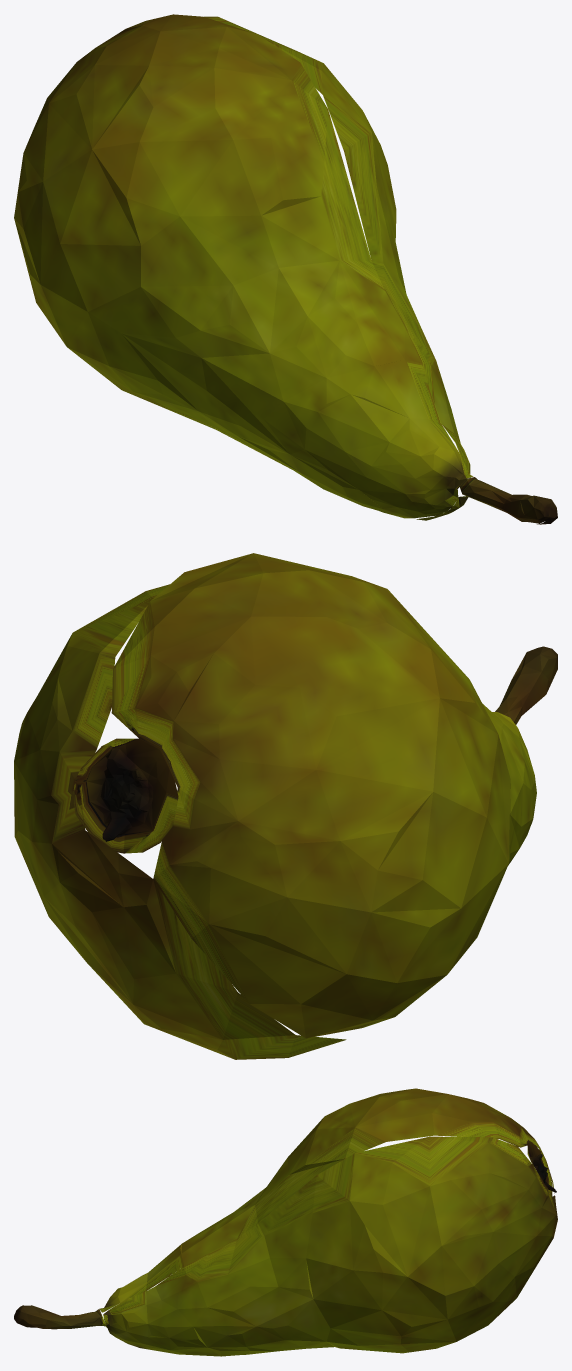
File: food_produce_pear_b01.glb
3 renders of one model, top to bottom at view 1: azimuth 30°, elevation 25°; view 2: azimuth 150°, elevation 25°; view 3: azimuth 270°, elevation 25°, orthographic. The views are drawn at different scales.
Visible parts, largest first — view 1: geometry_0; view 2: geometry_0; view 3: geometry_0.
Part boxes in pixels (x1,y1,x2,y2): geometry_0: (14, 14, 557, 524); geometry_0: (14, 553, 557, 1059); geometry_0: (14, 1088, 557, 1356).
Bounding box in the file's own units: 0.2058 × 0.2108 × 0.42.
1 material, 1 textured.
